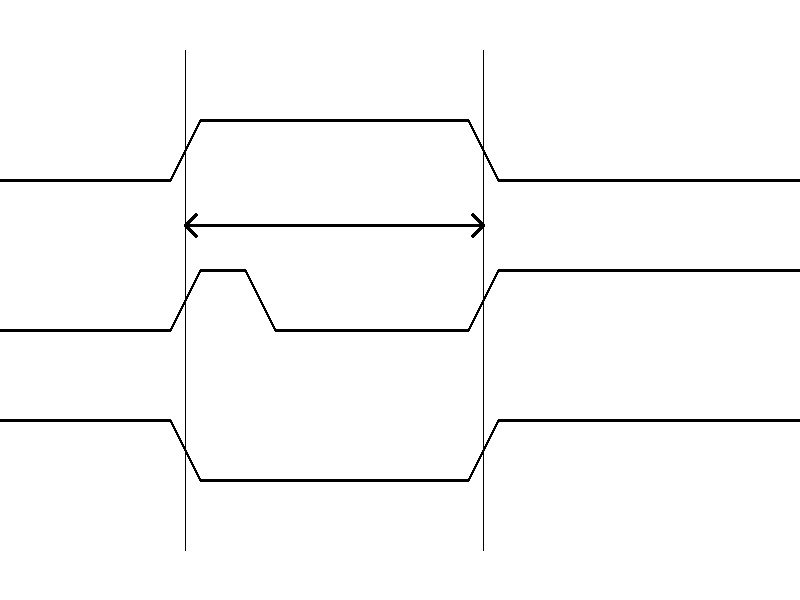double_arrow: (185, 210, 483, 240)
